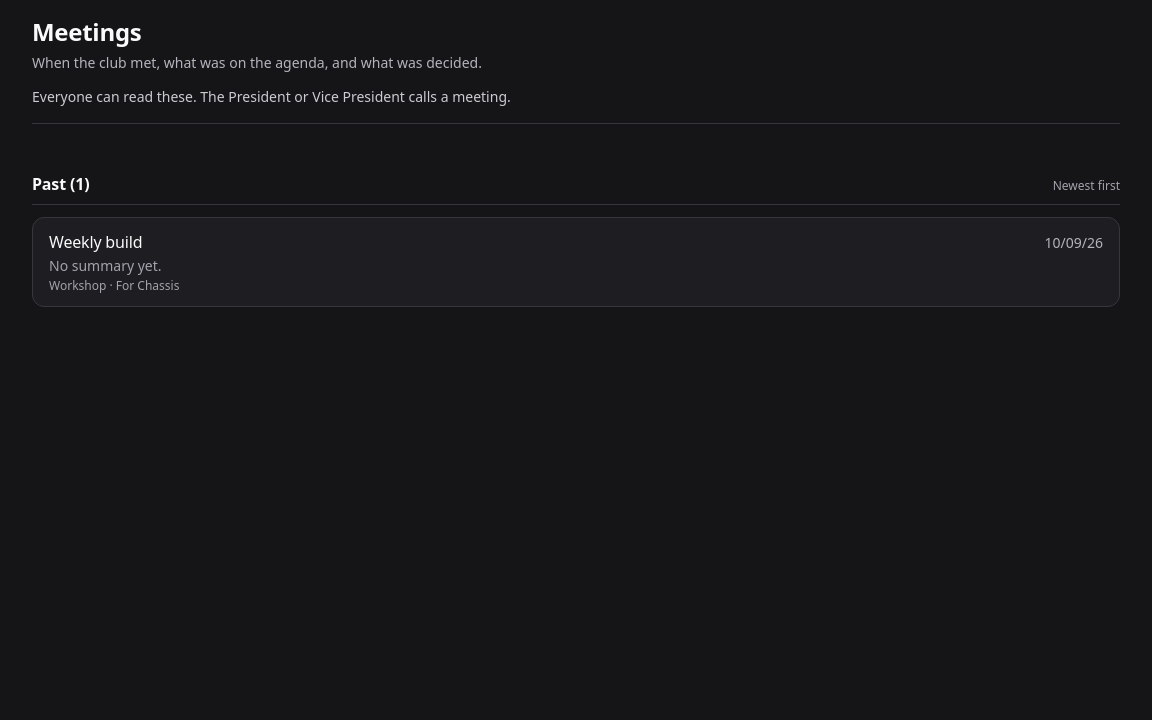
Test: sharing a meeting › shows the department and ready-made texts anyone can copy
This screenshot has width=1152, height=720.
Later steps or results of the test are not shown.
Expected: the text "Workshop · For Chassis" is shown, [49, 277, 180, 294]
Step 1. Click the button "Weekly build" → click(96, 242), box [49, 230, 142, 254]
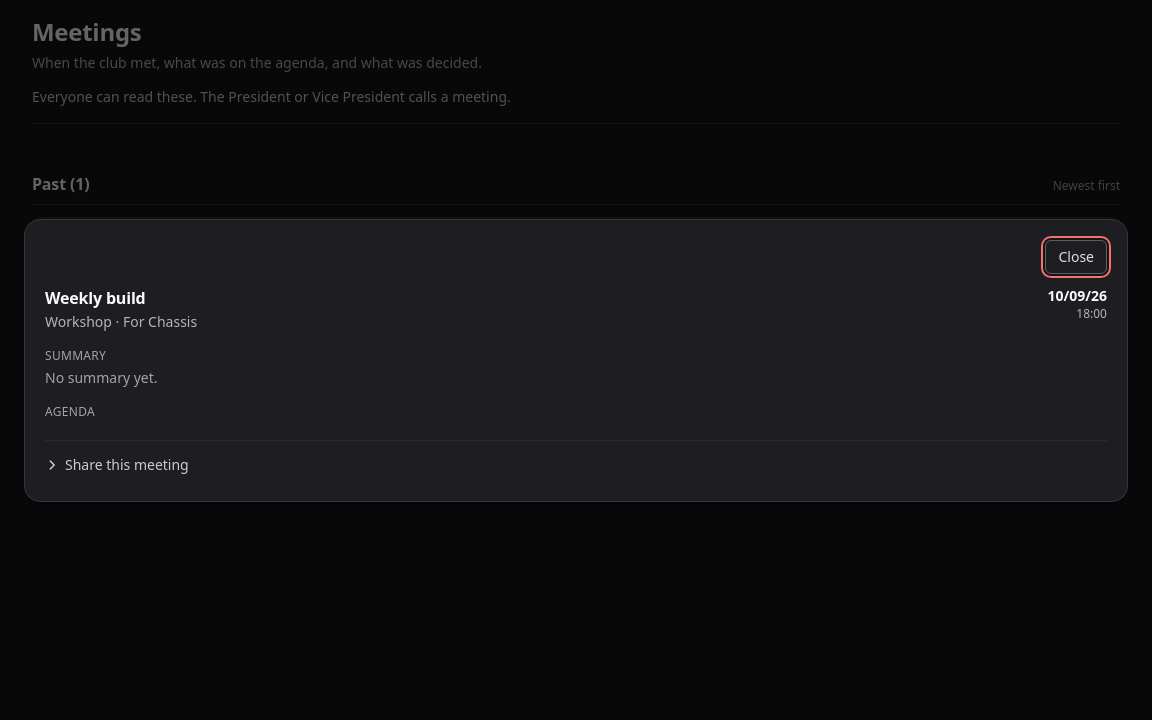
Step 2. Click the heading "Share this meeting" → click(117, 464), box [45, 454, 189, 474]
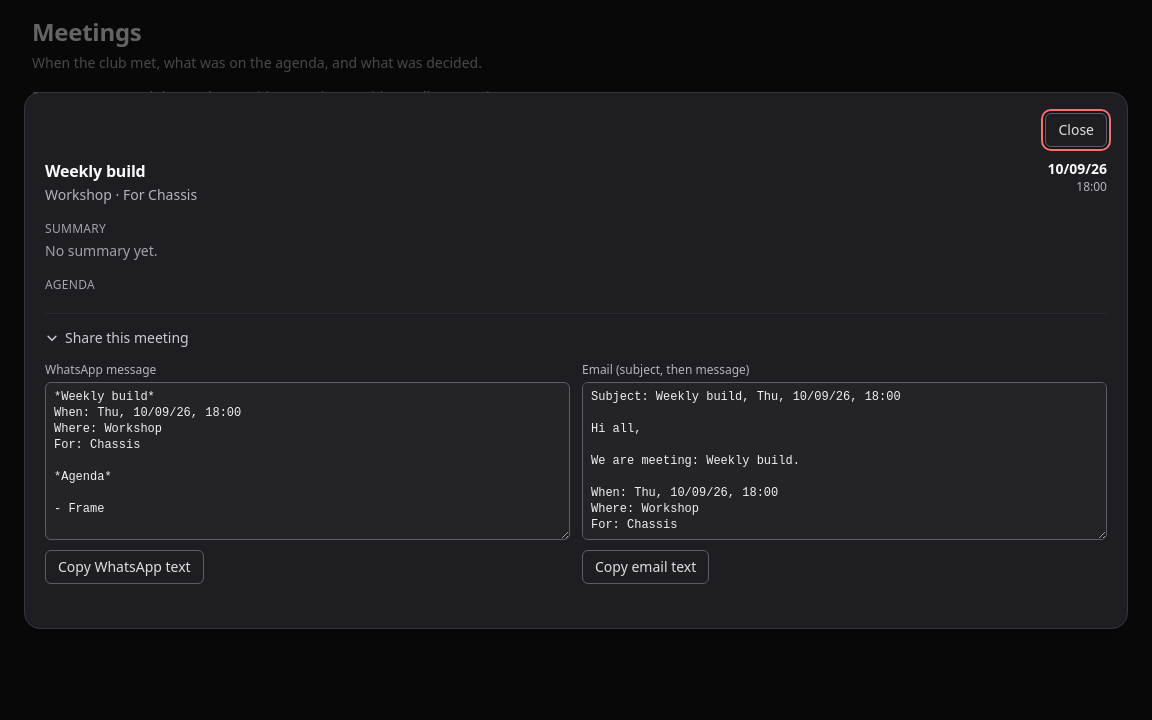
Step 3. Click the button "Copy WhatsApp text" → click(124, 566), box [45, 550, 204, 584]
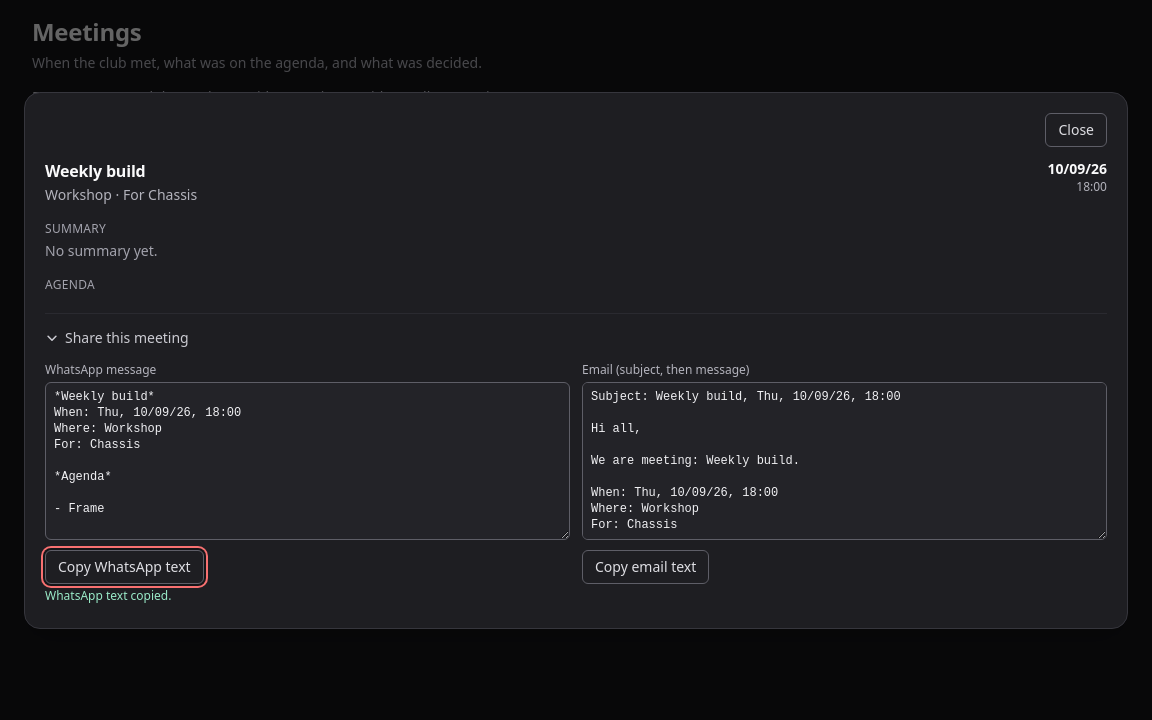
Result: the text "WhatsApp text copied." is shown at [45, 586, 172, 604]
